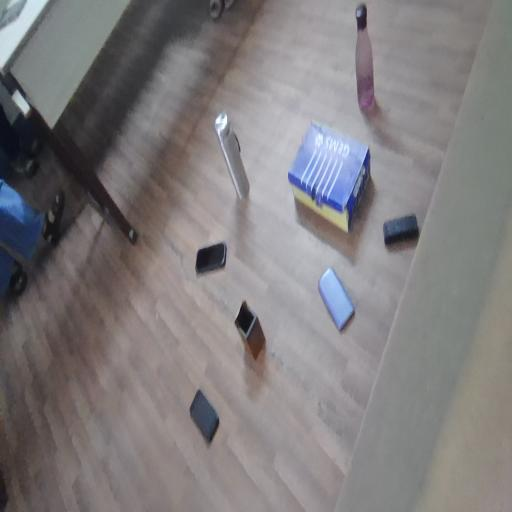Bottle: (346, 13, 393, 110)
